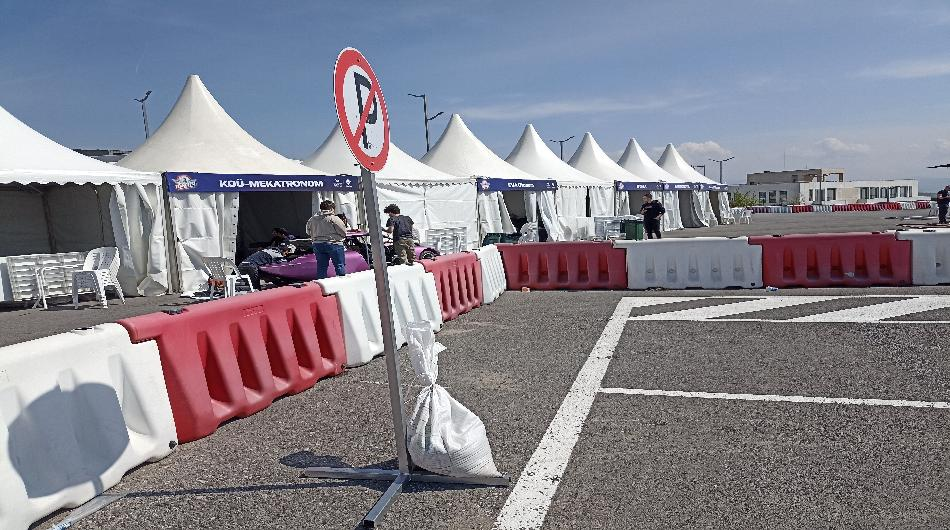park_yapilmaz_3: (329, 38, 397, 173)
